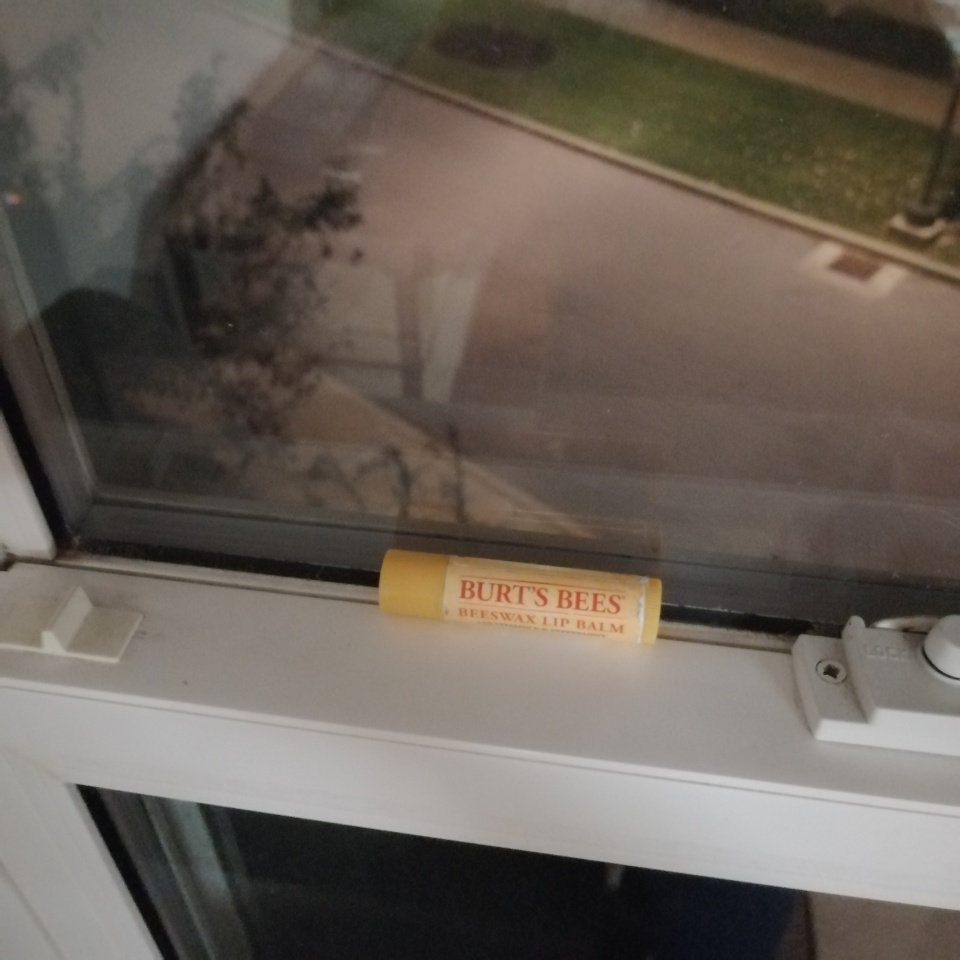chapstick: (378, 547, 664, 641)
